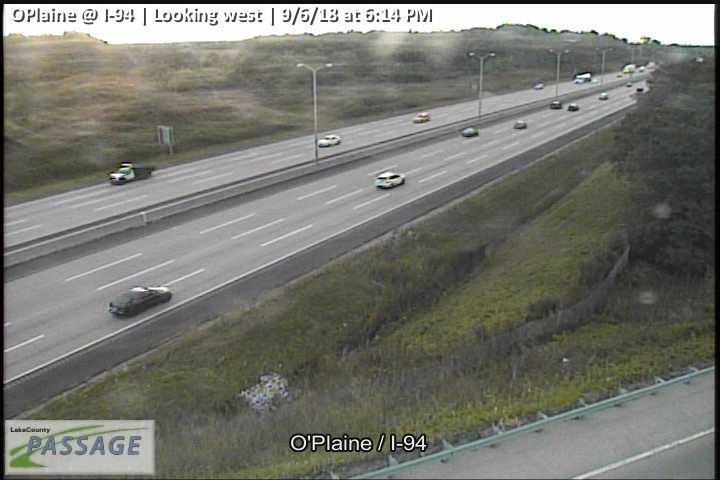SUV: (375, 171, 405, 188), (462, 126, 479, 138), (551, 99, 560, 108)
Sedan: (110, 285, 172, 317), (319, 134, 341, 147), (414, 112, 431, 123), (513, 121, 527, 130), (567, 104, 578, 110)
Truck: (110, 160, 153, 185)
